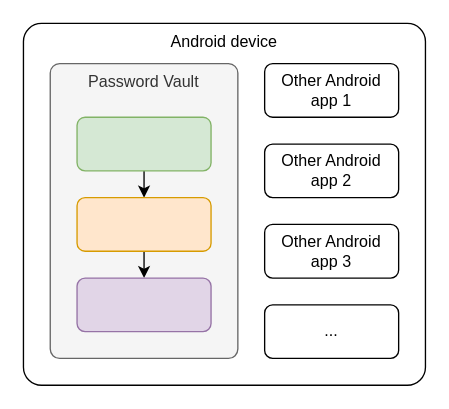
The diagram is 449 pixels wide and 409 high, and some of its shapes have lost their labels. The shapes that lost their labels are listed below. From the top down, each one's centre as x and y in pixels, then its label:
(143,143): :app
(143,223): :feature:auth
(143,304): :core:security
